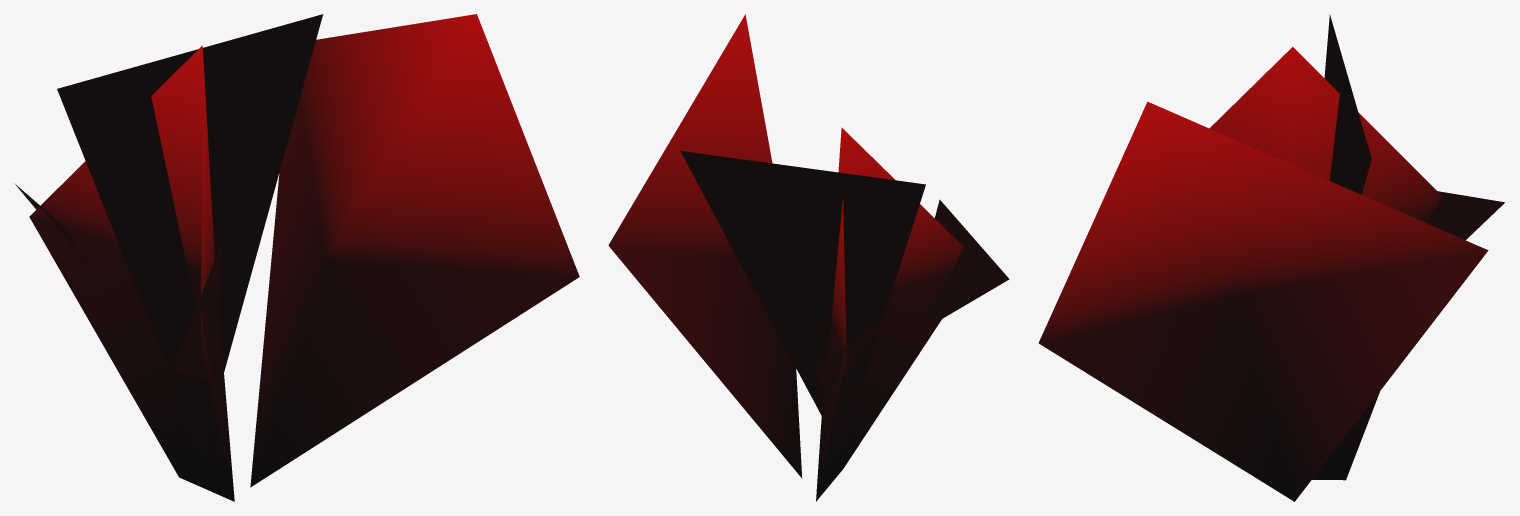
The model's file is Gorse1.fbx.
The picture shows the model from 3 angles, left to right: view 1: azimuth 30°, elevation 25°; view 2: azimuth 150°, elevation 25°; view 3: azimuth 270°, elevation 25°; orthographic projection. The views are drawn at different scales.
Parts seen in each view (by area): view 1: Gorse1; view 2: Gorse1; view 3: Gorse1.
Boxes of the visible parts, x1=… form: Gorse1: x1=14, y1=14, x2=579, y2=501; Gorse1: x1=608, y1=14, x2=1009, y2=501; Gorse1: x1=1038, y1=14, x2=1504, y2=501.
Bounding box in the file's own units: 29.33 × 37.46 × 33.77.
